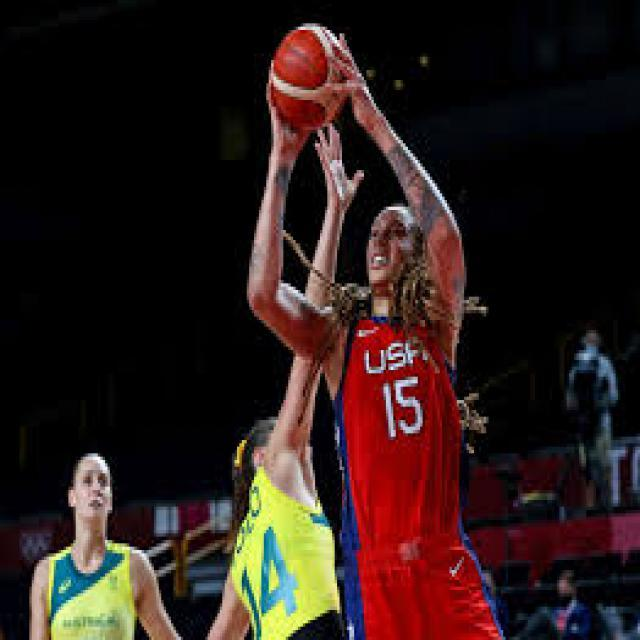basketball: (271, 23, 347, 130)
